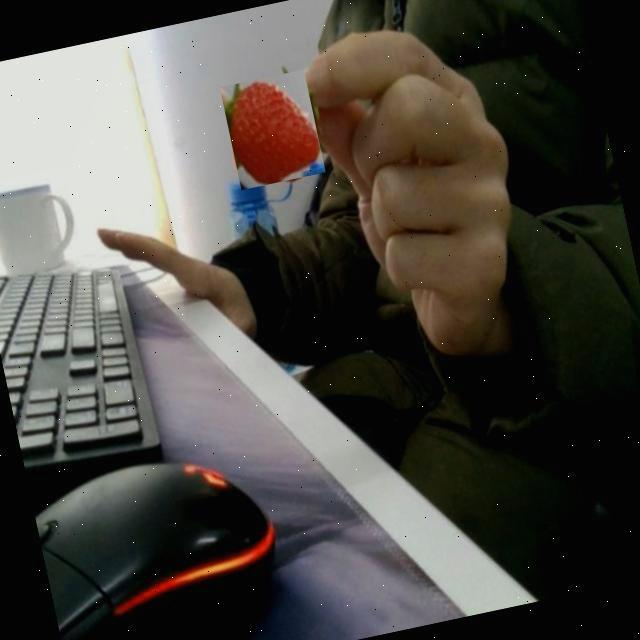ripe: (219, 69, 325, 190)
